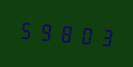eight: (56, 19, 74, 47)
five: (18, 15, 36, 44)
nine: (37, 17, 55, 45)
three: (94, 22, 112, 50)
zero: (75, 20, 93, 49)
